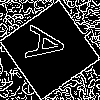A: (25, 25, 76, 66)
